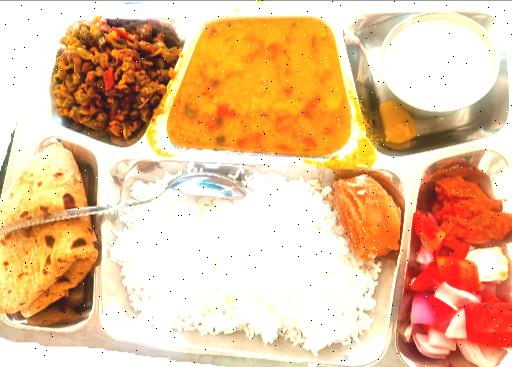Curd: (376, 8, 512, 113)
Dal: (186, 23, 340, 148)
Pickle: (436, 159, 512, 234)
Rice: (118, 178, 374, 343)
Roti: (0, 142, 90, 322)
Salad: (410, 237, 512, 367)
Sweet: (327, 176, 401, 260)
Vegetable: (50, 20, 170, 137)
